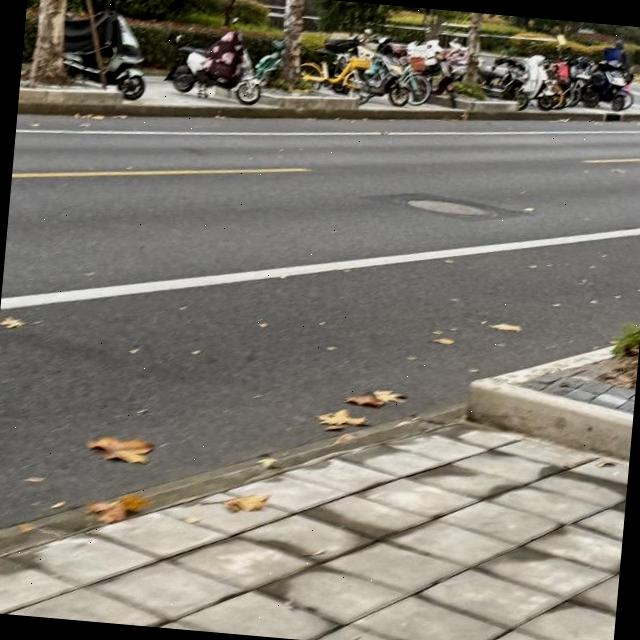curb: (135, 405, 464, 512), (466, 346, 632, 460), (17, 102, 640, 121), (0, 507, 101, 560)
